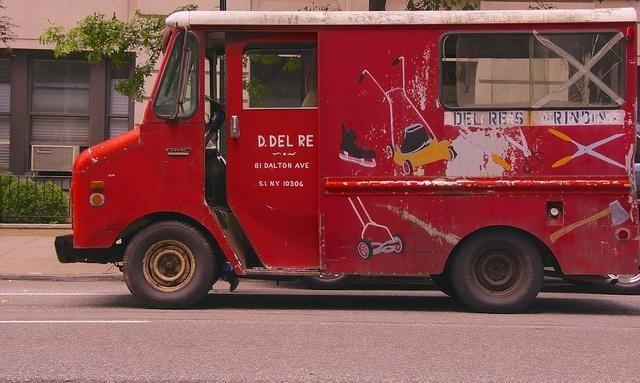truck: (51, 7, 640, 316)
